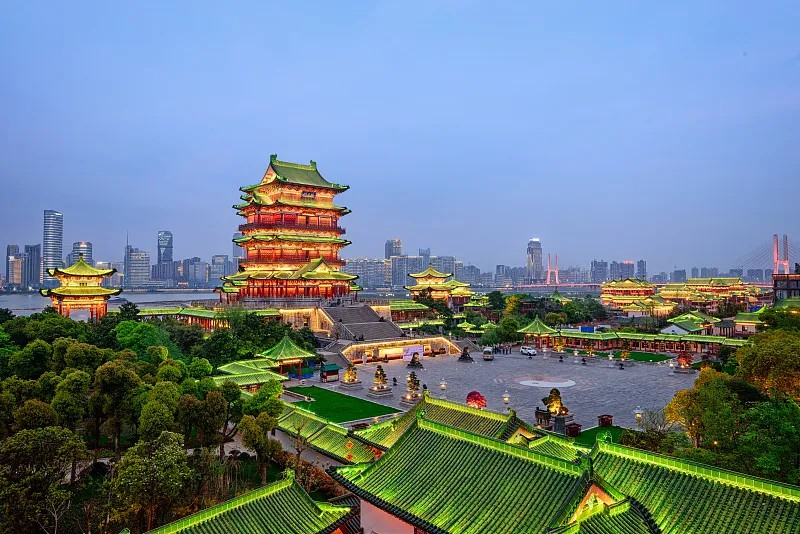Teng: (213, 154, 363, 300)
